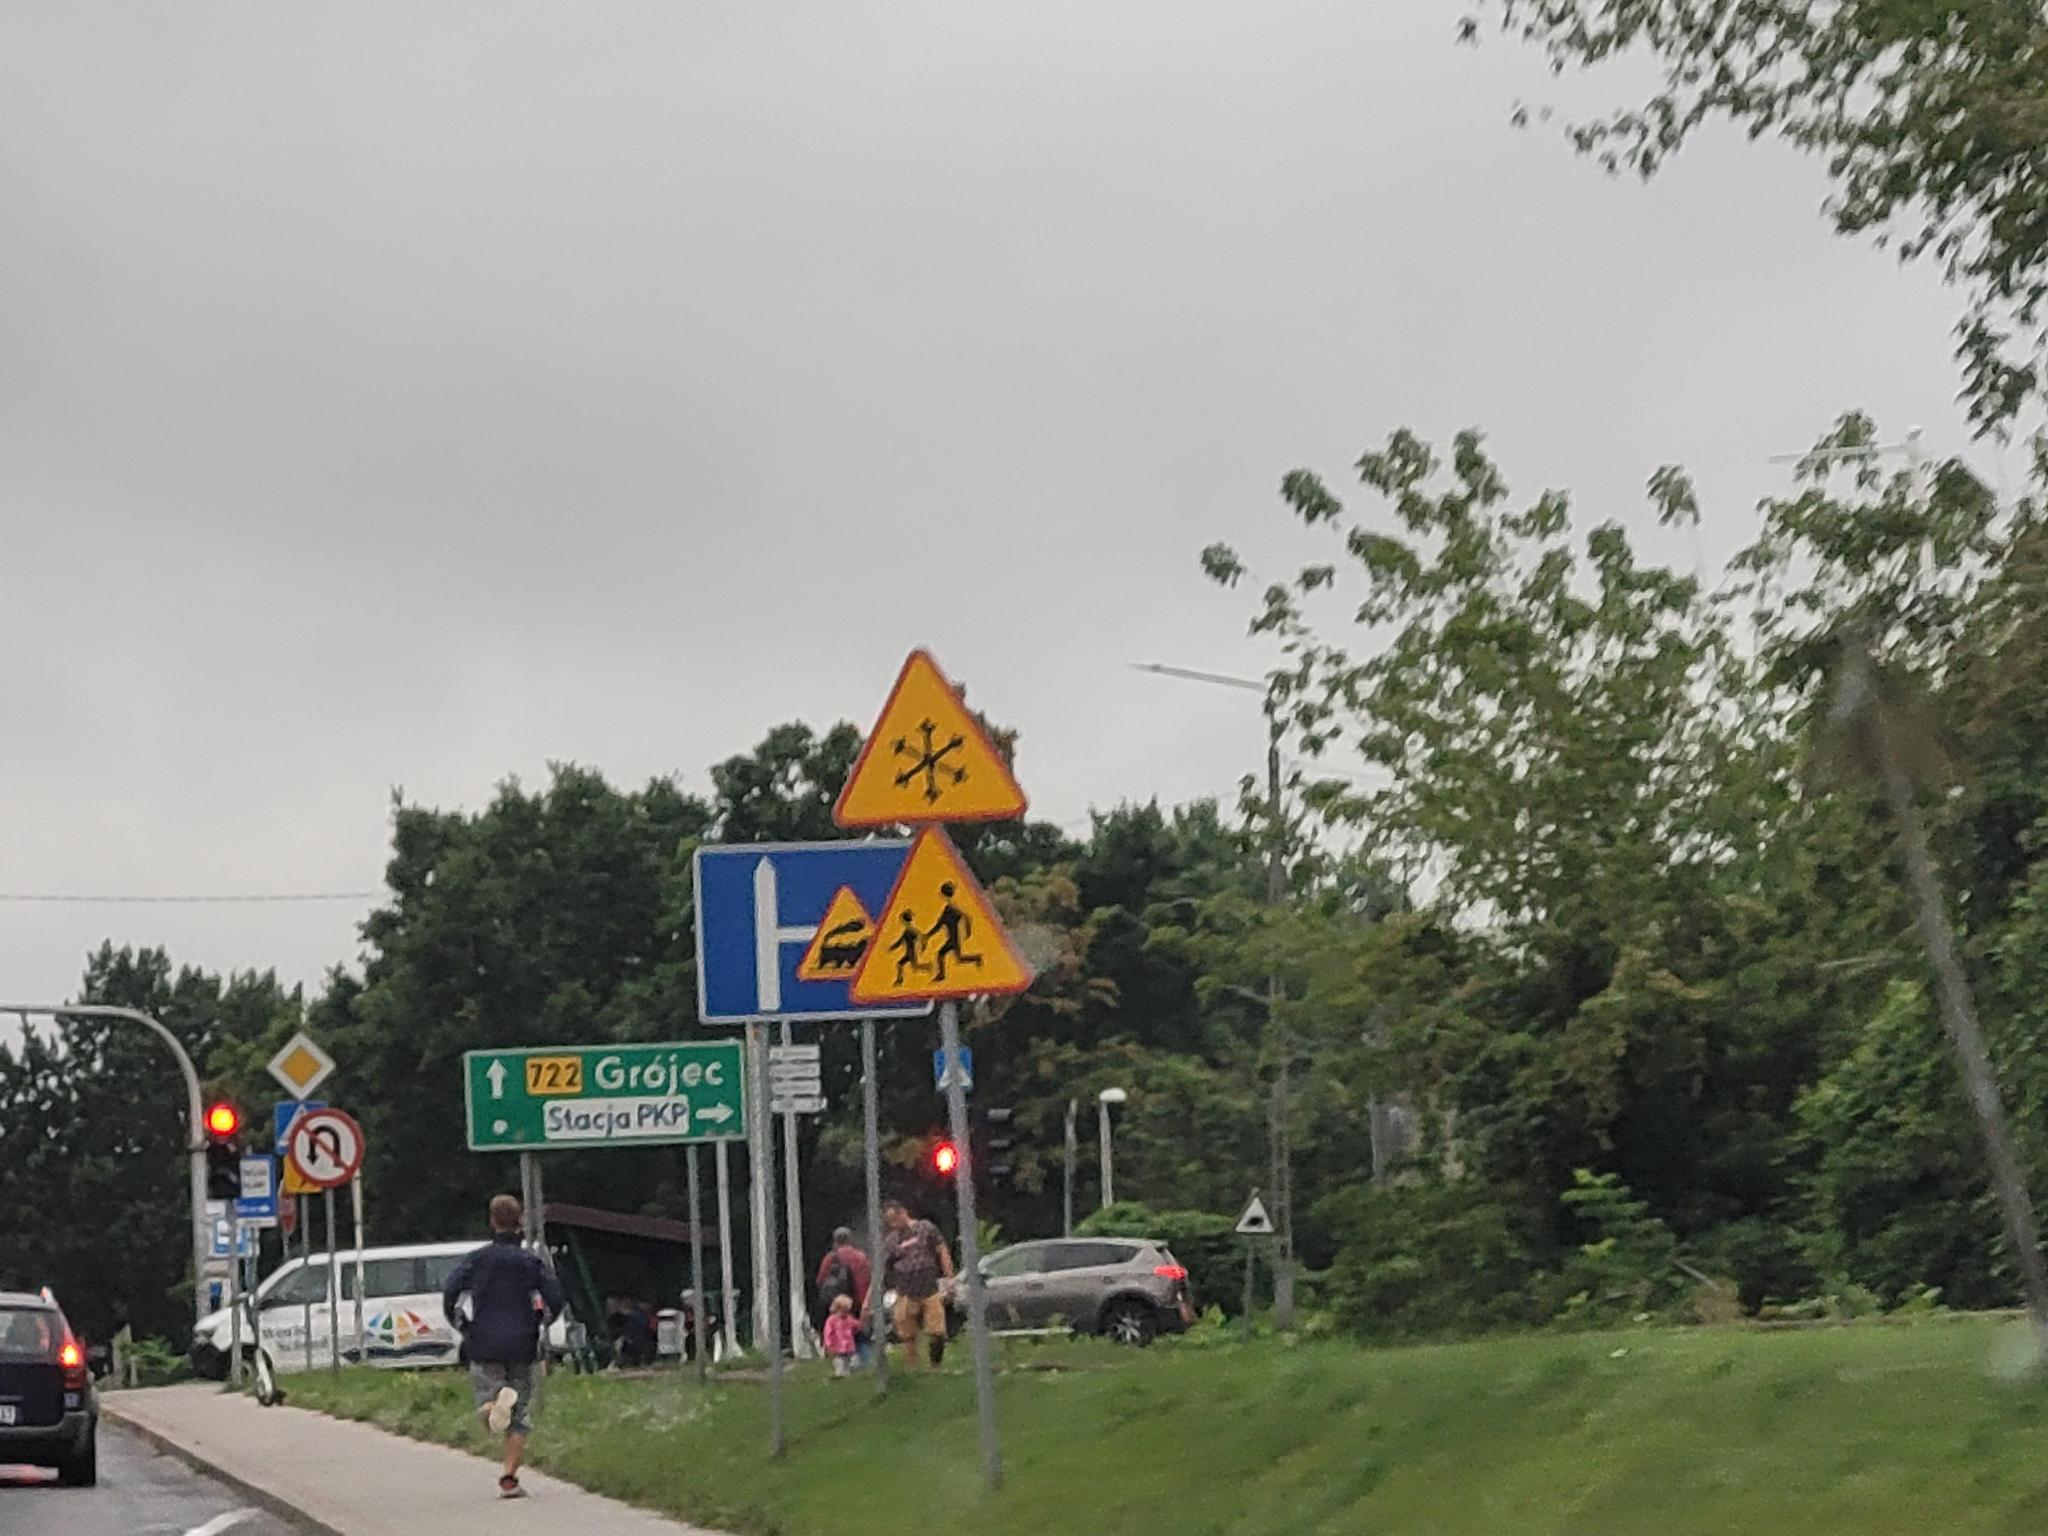direction-city: (460, 1037, 753, 1155)
information: (264, 1031, 337, 1100), (271, 1096, 329, 1160), (932, 1044, 976, 1094), (213, 1213, 247, 1258)
other: (690, 837, 939, 1025), (235, 1154, 279, 1226), (1234, 1191, 1280, 1241), (766, 1044, 821, 1063), (768, 1097, 827, 1115), (766, 1079, 824, 1096), (768, 1062, 819, 1079)
prohibitory: (290, 1108, 363, 1186), (277, 1176, 298, 1236)
warning: (829, 642, 1032, 828), (847, 820, 1037, 1005)
